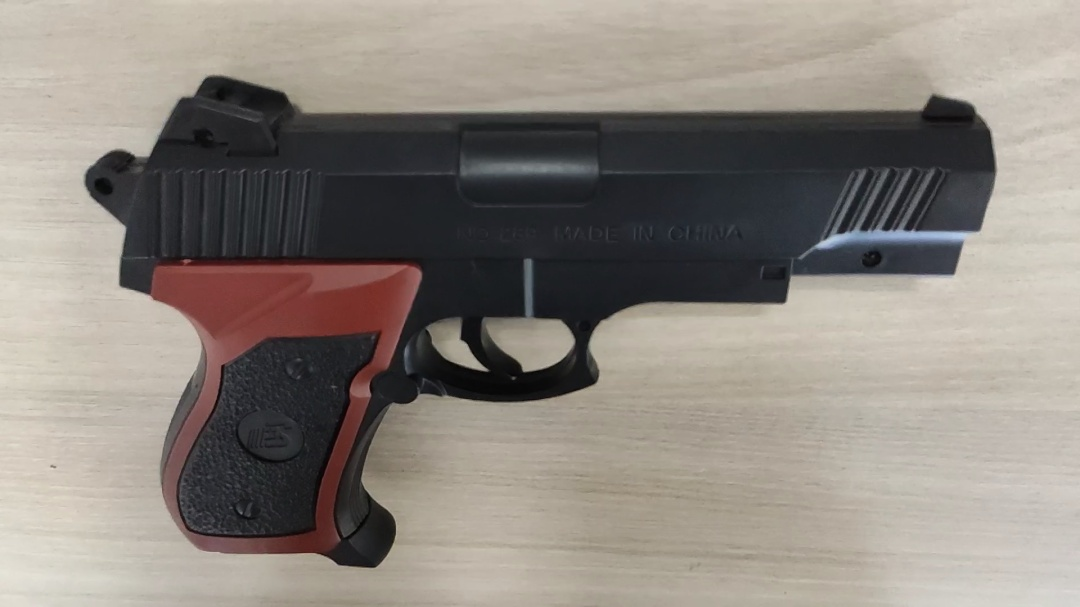gun: (85, 73, 996, 568)
